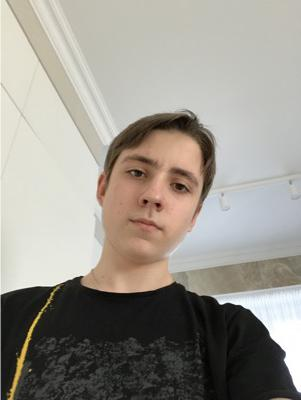without_mask: (102, 150, 203, 265)
